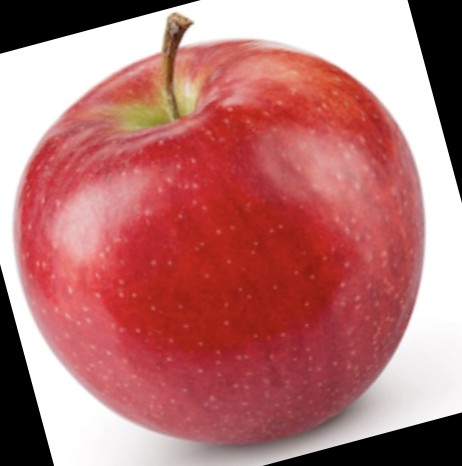fresh_apple: (14, 40, 426, 441)
